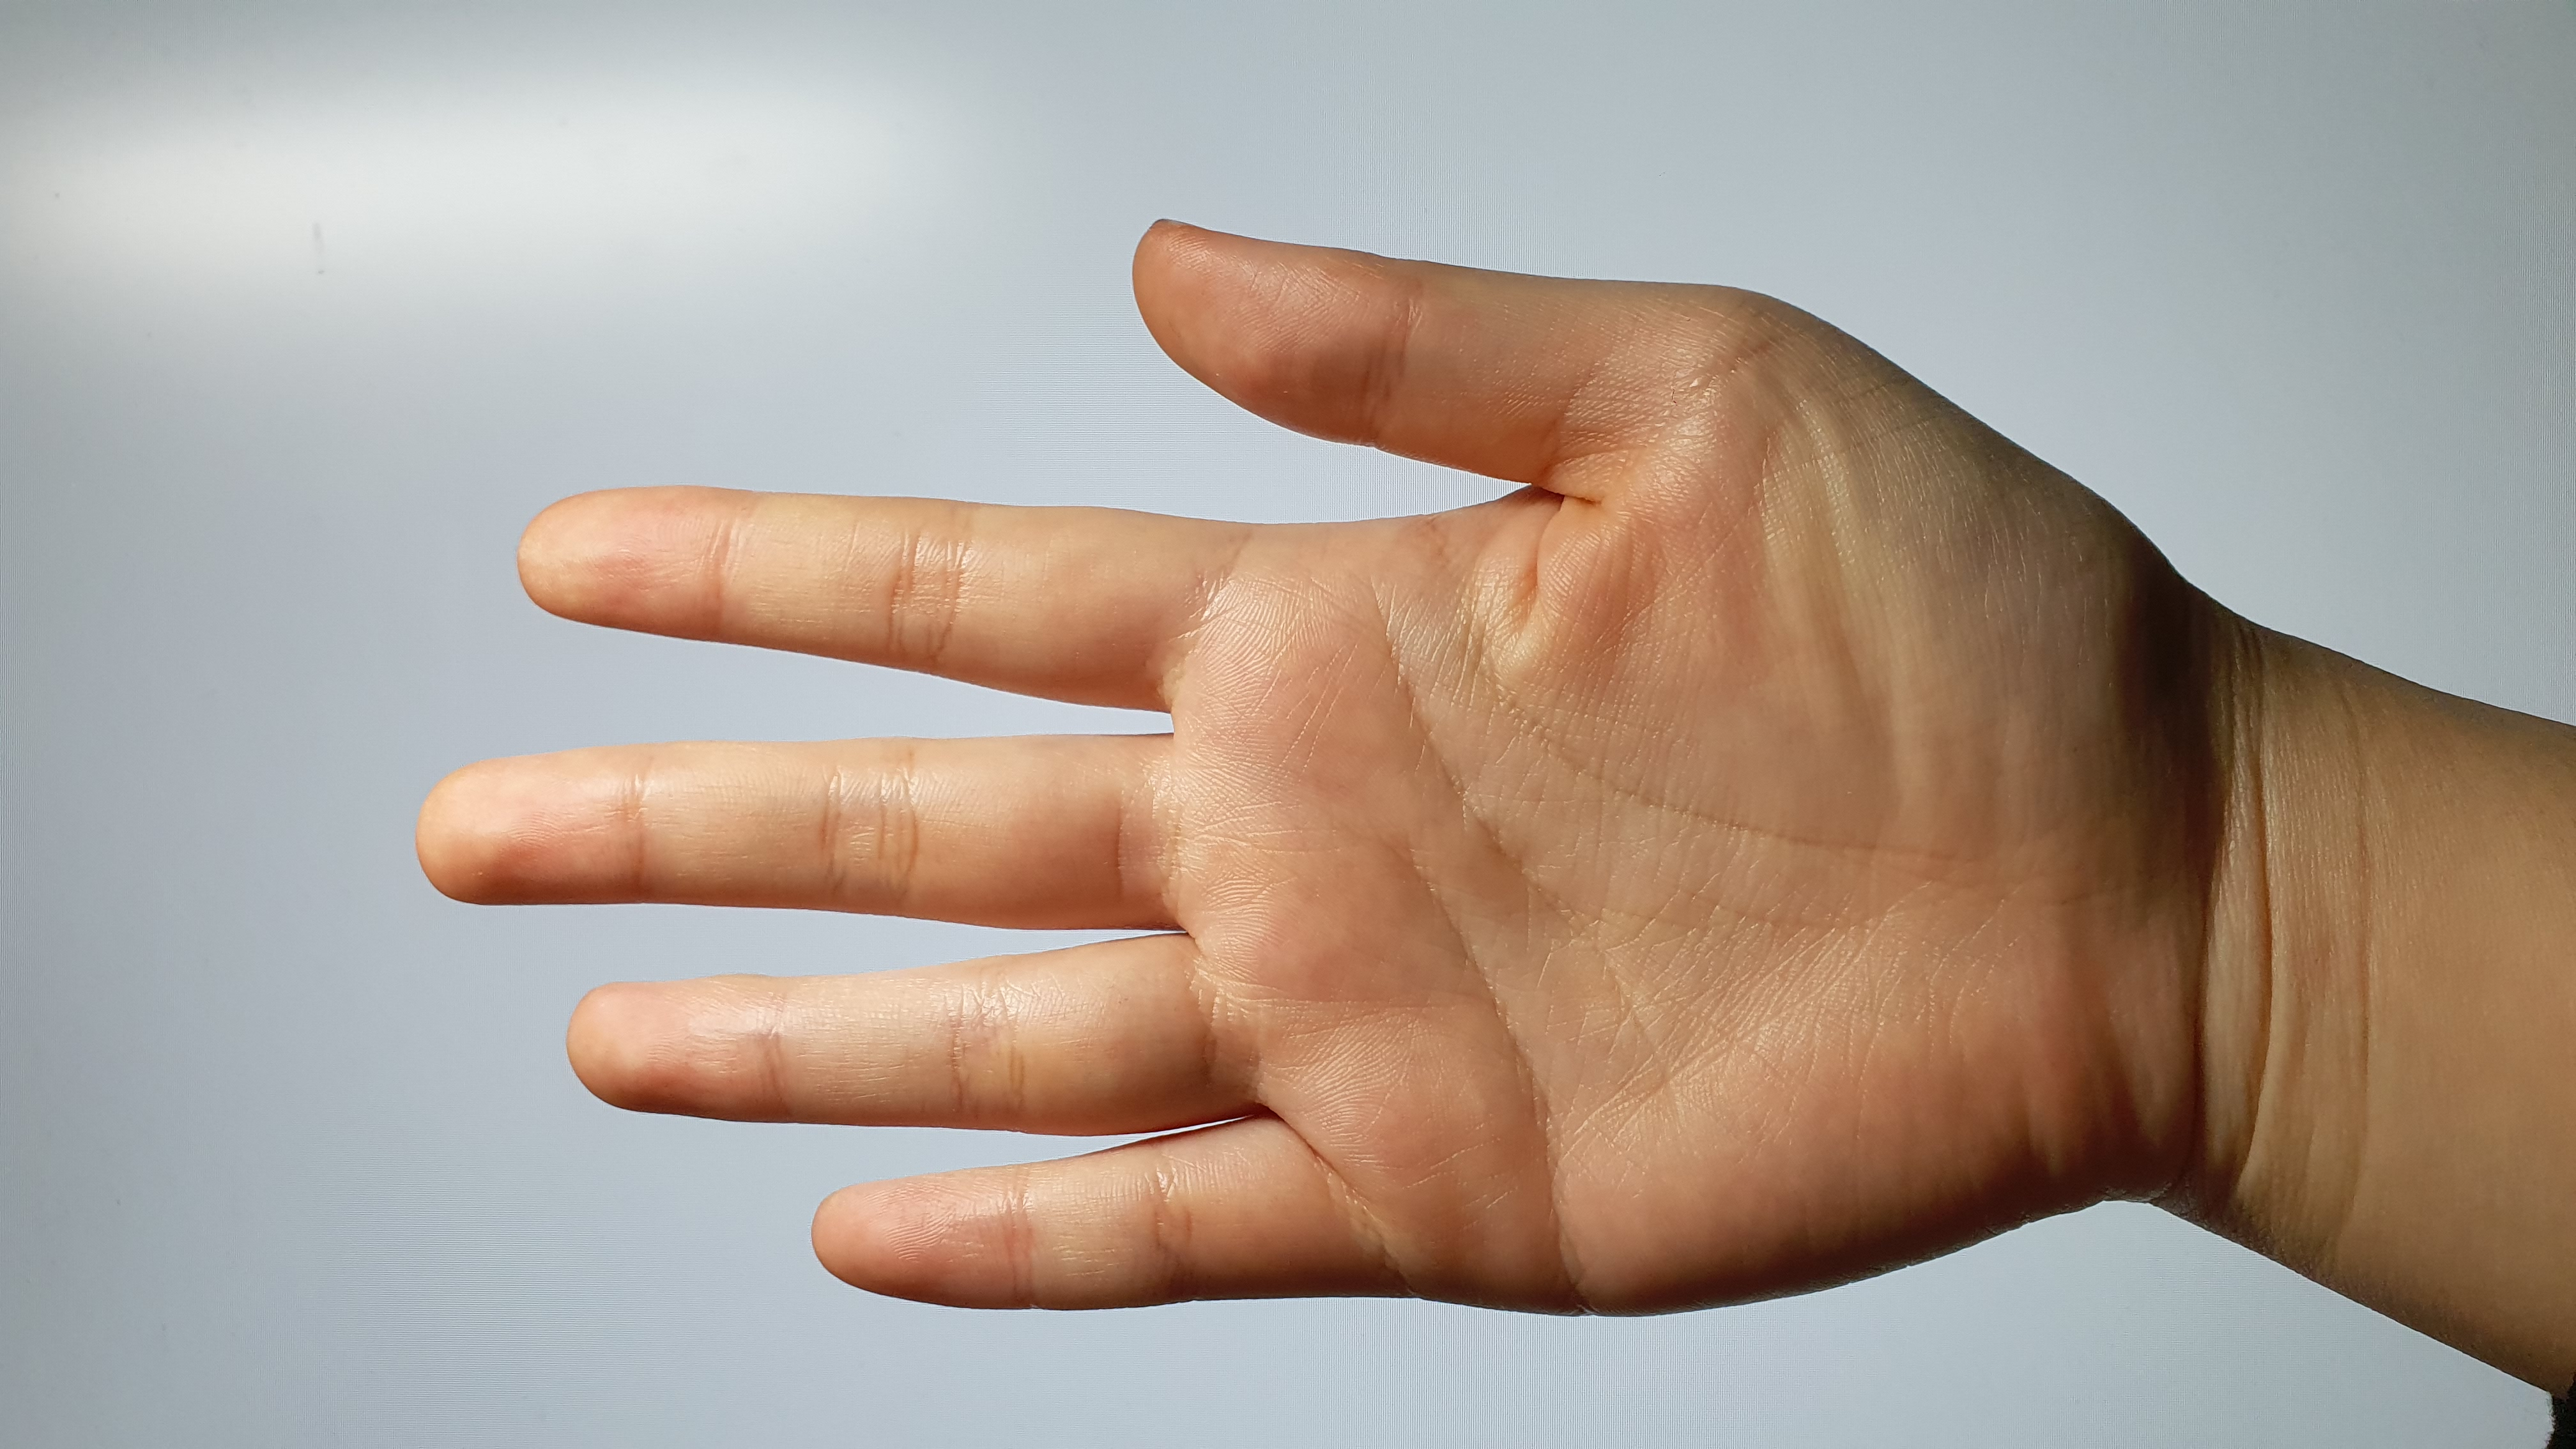hand: (419, 205, 2206, 1334)
index finger: (504, 472, 1192, 720)
middle finger: (402, 729, 1185, 939)
palm: (1152, 458, 2183, 1325)
pinky: (803, 1115, 1375, 1334)
ring finger: (557, 952, 1265, 1148)
thumb: (1116, 205, 1651, 531)
